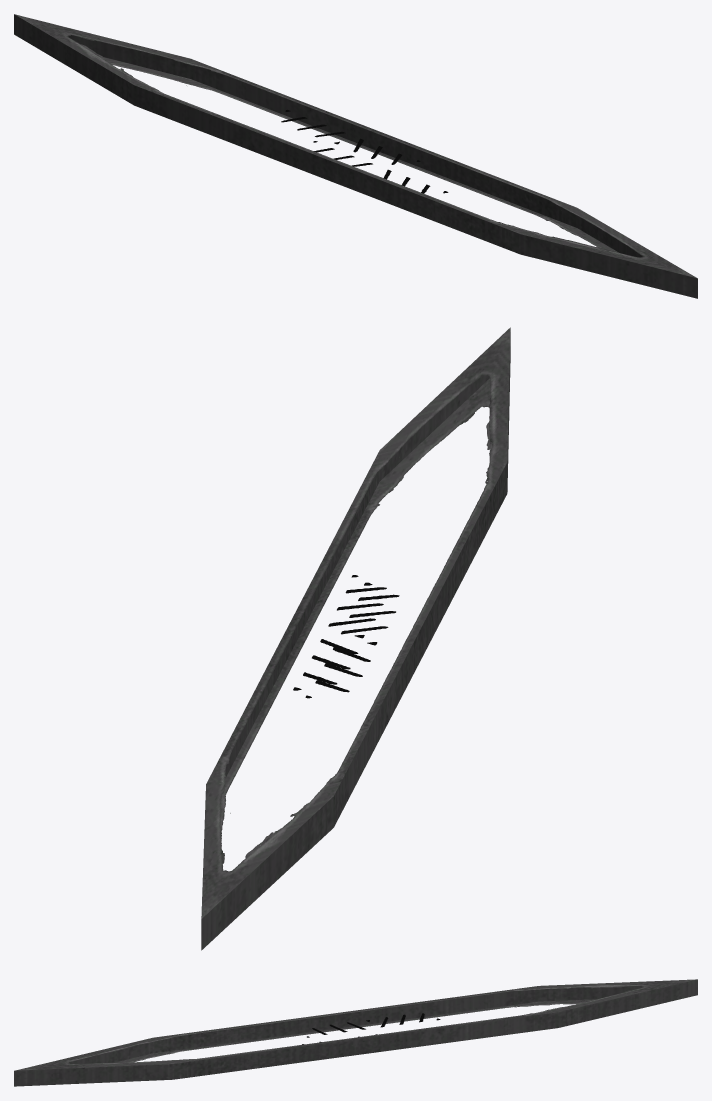
The model's file is t6_wpn_ballistic_knife_blade_world_LOD2.obj.
3 renders of one model, top to bottom at view 1: azimuth 30°, elevation 25°; view 2: azimuth 150°, elevation 25°; view 3: azimuth 270°, elevation 25°, orthographic. The views are drawn at different scales.
Visible parts, largest first — view 1: mtl_t6_wpn_ballistic_knife_camo1; view 2: mtl_t6_wpn_ballistic_knife_camo1; view 3: mtl_t6_wpn_ballistic_knife_camo1.
Boxes of the visible parts, x1,y1,x2,y2 form: mtl_t6_wpn_ballistic_knife_camo1: (14, 14, 697, 298); mtl_t6_wpn_ballistic_knife_camo1: (201, 327, 510, 950); mtl_t6_wpn_ballistic_knife_camo1: (14, 979, 697, 1086).
Bounding box in the file's own units: 8.74 × 0.7039 × 27.64.
